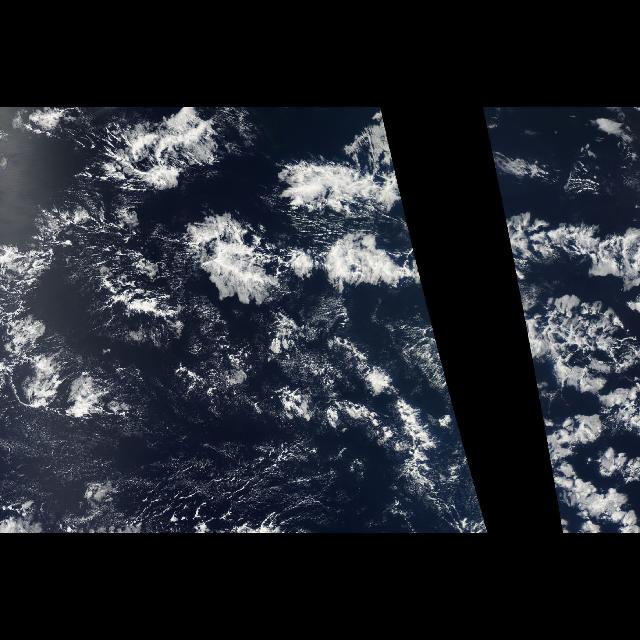Fish: (1, 110, 466, 467), (501, 211, 639, 309)
Flower: (6, 110, 386, 447)
Sugar: (108, 428, 346, 530)
